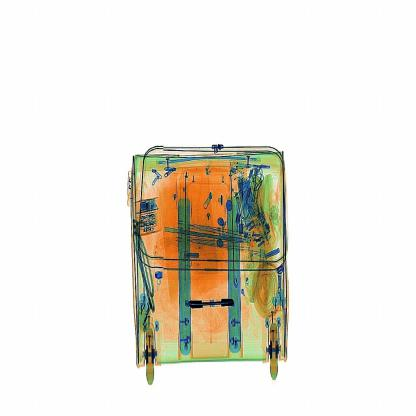knife: (185, 297, 234, 312)
